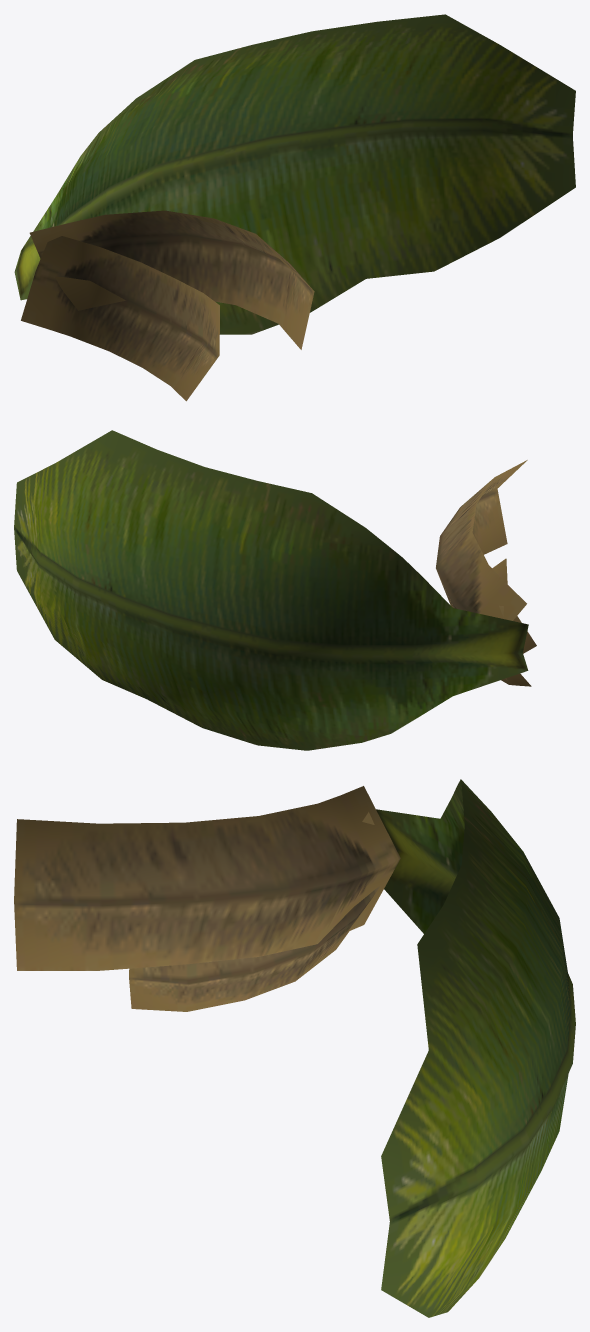
The model's file is Leaf000.obj.
The picture shows the model from 3 angles, top to bottom: view 1: azimuth 30°, elevation 25°; view 2: azimuth 150°, elevation 25°; view 3: azimuth 270°, elevation 25°; orthographic projection. The views are drawn at different scales.
Parts seen in each view (by area): view 1: pPlane1__TreePalmLeaf; view 2: pPlane1__TreePalmLeaf; view 3: pPlane1__TreePalmLeaf.
Boxes of the visible parts, bbox=[...] form: pPlane1__TreePalmLeaf: bbox=[14, 14, 575, 401]; pPlane1__TreePalmLeaf: bbox=[14, 430, 536, 750]; pPlane1__TreePalmLeaf: bbox=[14, 779, 575, 1317].
Size of the model in its own units: 735 by 346 by 440.
Materials: 2 (1 with a texture image).
